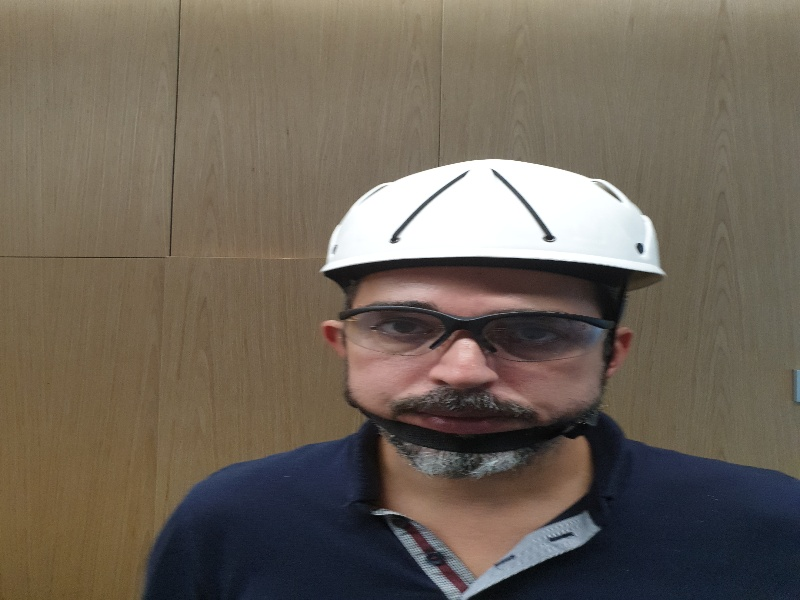Baret: (323, 157, 666, 283)
Gozluk: (338, 305, 610, 363)
